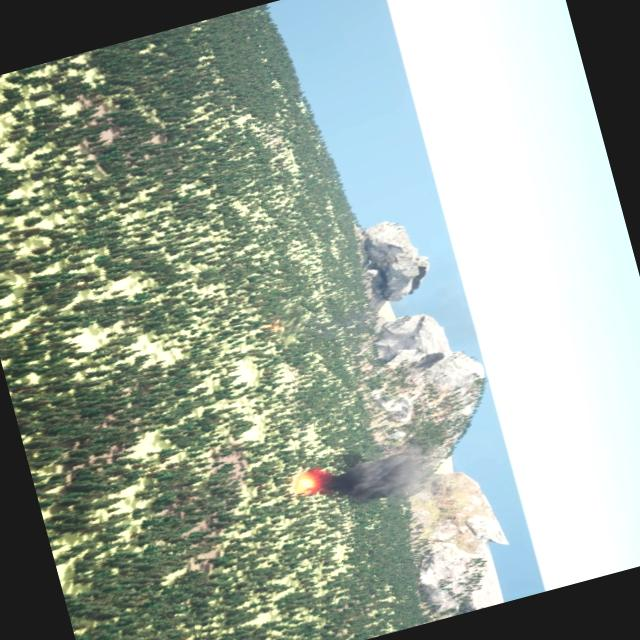fire: (295, 463, 333, 498)
smoke: (332, 448, 426, 511)
